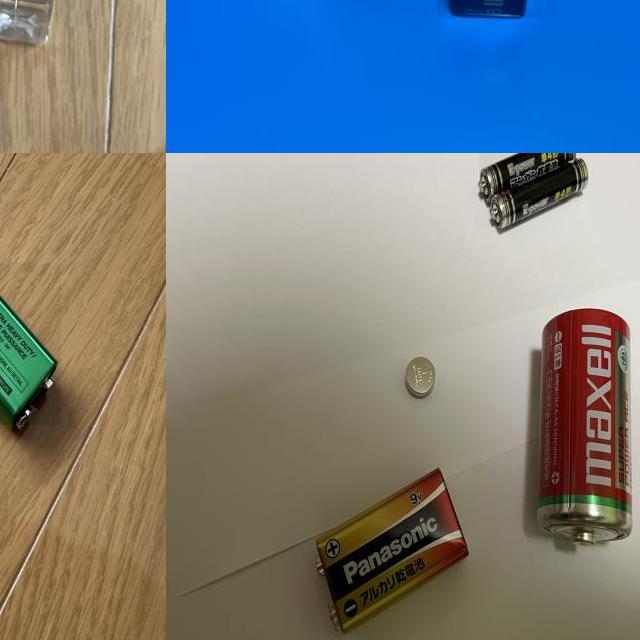9V: (314, 467, 470, 632), (0, 263, 61, 424)
